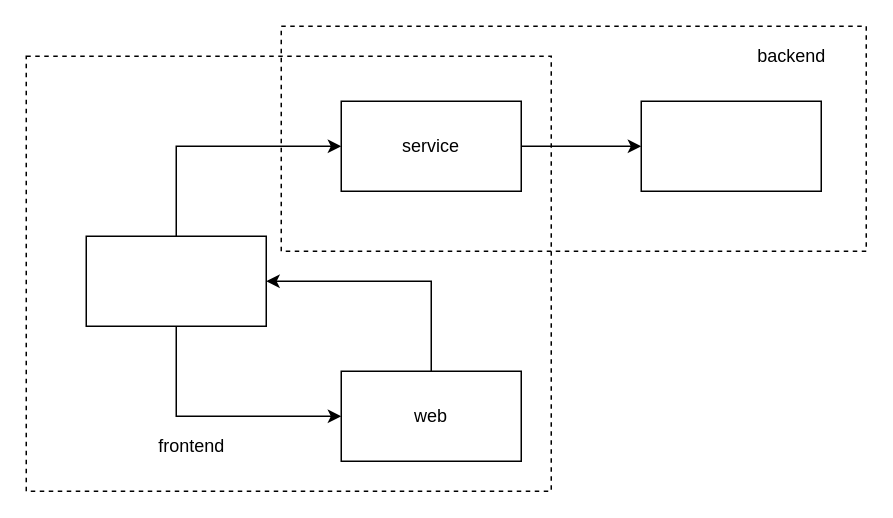
The diagram is 893 pixels wide and 518 high, and some of its shapes have lost their labels. Each missing label, with the centre of its shape:
"db" belongs at point (730, 145).
"proxy" belongs at point (175, 280).
